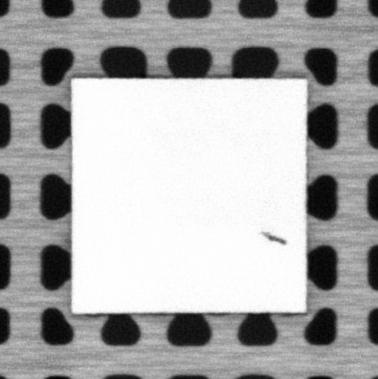DIE_INK: (261, 229, 288, 245)
